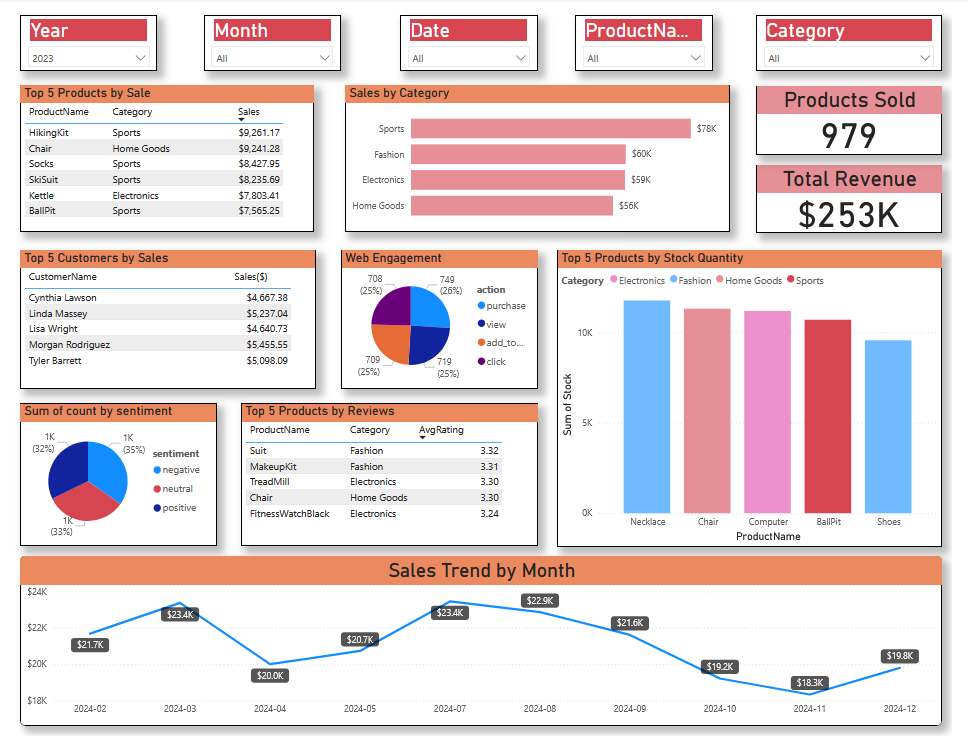

What the dashboard file says about the page in this screenshot:
{"tool":"powerbi","page":{"name":"ShoppingMart_Analysis","canvas":[1280,1000],"ordinal":0},"visuals":[{"type":"card","title":"Total Revenue","fields":{"Values":["Sum(shoppingmart_gold_orders.TotalAmount)"]},"box":[1014.3,219.3,252.2,93.2],"z":0},{"type":"textbox","box":[35,224.5,211,150],"z":1000},{"type":"card","title":" Products Sold","fields":{"Values":["CountNonNull(shoppingmart_gold_orders.ProductID)"]},"box":[1014.3,113.3,252.2,93.2],"z":2000},{"type":"slicer","fields":{"Values":["DateTable.Year"]},"box":[18.3,16.4,186.4,76.8],"z":3000},{"type":"slicer","fields":{"Values":["shoppingmart_gold_orders.ProductName"]},"box":[768.9,17,186.6,76.3],"z":4000},{"type":"slicer","fields":{"Values":["shoppingmart_gold_orders.Category"]},"box":[1014.3,16.4,252.2,76.8],"z":5000},{"type":"slicer","fields":{"Values":["DateTable.Month"]},"box":[266.8,16.4,186.4,76.8],"z":6000},{"type":"slicer","fields":{"Values":["DateTable.Day"]},"box":[532.9,17,186.6,76.3],"z":7000},{"type":"tableEx","title":"Top 5 Products by Sale","fields":{"Values":["shoppingmart_gold_orders.ProductName","shoppingmart_gold_orders.Category","Sum(shoppingmart_gold_orders.TotalAmount)"]},"box":[18.3,111.5,398.4,199.2],"z":9000},{"type":"tableEx","title":"Top 5 Products by Reviews","fields":{"Values":["shoppingmart_gold_orders.ProductName","shoppingmart_gold_orders.Category","shoppingmart_gold_reviews.AvgRating"]},"box":[318,542.8,402,193.7],"z":9001},{"type":"tableEx","title":"Top 5 Customers by Sales","fields":{"Values":["shoppingmart_gold_orders.CustomerName","Sum(shoppingmart_gold_orders.TotalAmount)"]},"box":[18.3,334.4,400.2,188.2],"z":9002},{"type":"clusteredBarChart","title":" Sales by Category ","fields":{"Category":["shoppingmart_gold_orders.Category"],"Y":["Sum(shoppingmart_gold_orders.TotalAmount)"]},"box":[458.7,111.5,520.8,199.2],"z":9003},{"type":"columnChart","title":"Top 5 Products by Stock Quantity","fields":{"Category":["shoppingmart_gold_orders.ProductName"],"Series":["shoppingmart_gold_orders.Category"],"Y":["Sum(shoppingmart_gold_orders.Stock)"]},"box":[745.6,334.4,520.8,402],"z":9004},{"type":"pieChart","fields":{"Category":["shoppingmart_gold_social_media.sentiment"],"Y":["Sum(shoppingmart_gold_social_media.count)"]},"box":[18.3,542.8,266.8,193.7],"z":9005},{"type":"pieChart","title":"Web Engagement","fields":{"Category":["shoppingmart_gold_web_logs.action"],"Y":["CountNonNull(shoppingmart_gold_web_logs.count)"]},"box":[453.2,334.4,266.8,188.2],"z":9006},{"type":"lineChart","title":"Sales Trend by Month","fields":{"Category":["DateTable.YearMonth"],"Y":["Sum(shoppingmart_gold_orders.TotalAmount)"]},"box":[18.3,749.3,1248.2,230.3],"z":9007}]}

Visuals, with their boxes in screenshot pixels (x1, y1, x2, y2), scaled from the page's 1280x1000 canvas onto the 968x736 screenshot:
"Total Revenue" card: {"x1": 767, "y1": 161, "x2": 958, "y2": 230}
textbox: {"x1": 26, "y1": 165, "x2": 186, "y2": 276}
" Products Sold" card: {"x1": 767, "y1": 83, "x2": 958, "y2": 152}
slicer - DateTable.Year: {"x1": 14, "y1": 12, "x2": 155, "y2": 69}
slicer - shoppingmart_gold_orders.ProductName: {"x1": 581, "y1": 13, "x2": 723, "y2": 69}
slicer - shoppingmart_gold_orders.Category: {"x1": 767, "y1": 12, "x2": 958, "y2": 69}
slicer - DateTable.Month: {"x1": 202, "y1": 12, "x2": 343, "y2": 69}
slicer - DateTable.Day: {"x1": 403, "y1": 13, "x2": 544, "y2": 69}
"Top 5 Products by Sale" tableEx: {"x1": 14, "y1": 82, "x2": 315, "y2": 229}
"Top 5 Products by Reviews" tableEx: {"x1": 240, "y1": 400, "x2": 544, "y2": 542}
"Top 5 Customers by Sales" tableEx: {"x1": 14, "y1": 246, "x2": 316, "y2": 385}
" Sales by Category " clusteredBarChart: {"x1": 347, "y1": 82, "x2": 741, "y2": 229}
"Top 5 Products by Stock Quantity" columnChart: {"x1": 564, "y1": 246, "x2": 958, "y2": 542}
pieChart - shoppingmart_gold_social_media.sentiment x Sum(shoppingmart_gold_social_media.count): {"x1": 14, "y1": 400, "x2": 216, "y2": 542}
"Web Engagement" pieChart: {"x1": 343, "y1": 246, "x2": 544, "y2": 385}
"Sales Trend by Month" lineChart: {"x1": 14, "y1": 551, "x2": 958, "y2": 721}
